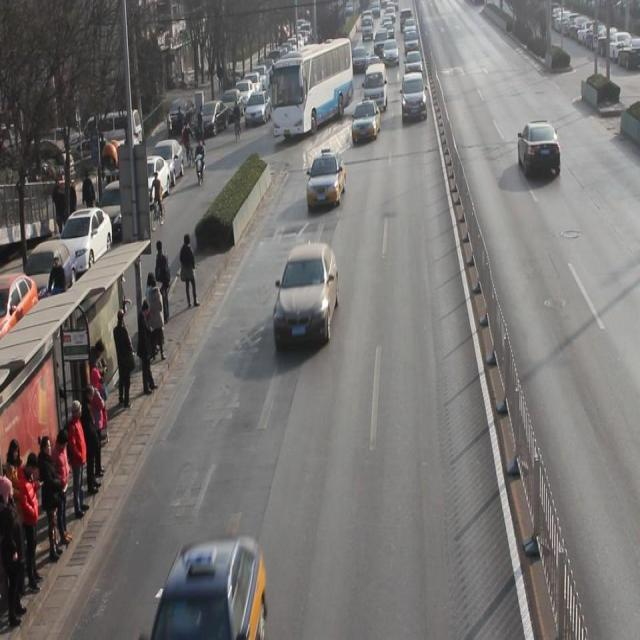car: (149, 534, 267, 640), (273, 242, 340, 352), (518, 119, 562, 182), (307, 150, 346, 208), (400, 72, 427, 124), (352, 101, 382, 146)
truck: (364, 62, 389, 114)
van: (271, 37, 352, 138)
